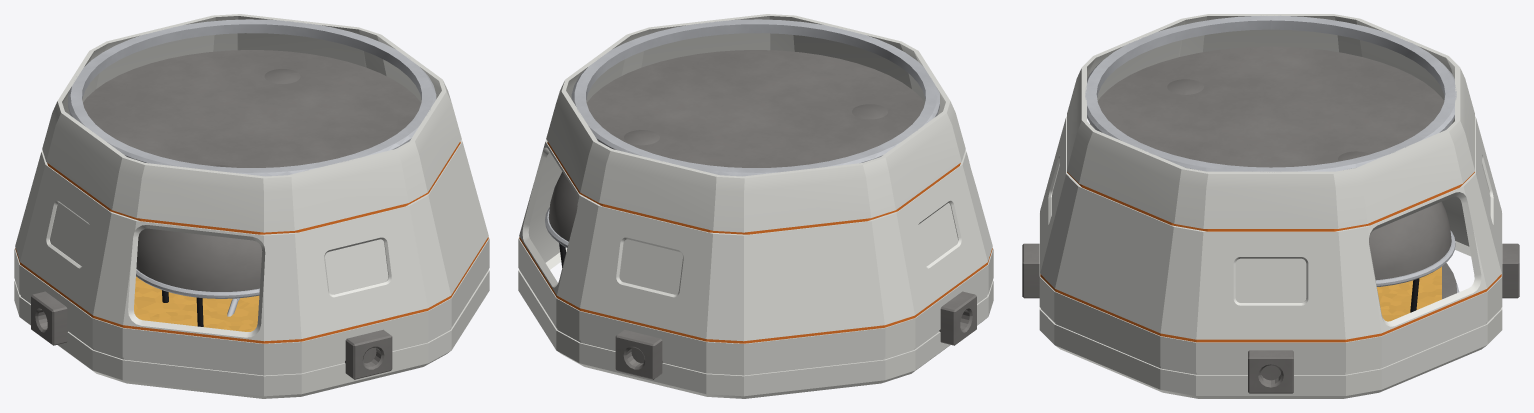
Rendered from ax_tank_16_lander_tank_section_m.glb.
3 renders of one model, left to right at view 1: azimuth 30°, elevation 25°; view 2: azimuth 150°, elevation 25°; view 3: azimuth 270°, elevation 25°, orthographic. The views are drawn at different scales.
Visible parts, largest first — view 1: shell, decks, interface_rings, spherical_tanks, mli_floor, leg_hardpoints, orange_stripes, tank_girth_rings; view 2: shell, decks, interface_rings, leg_hardpoints, orange_stripes, spherical_tanks; view 3: shell, decks, interface_rings, spherical_tanks, leg_hardpoints, orange_stripes, mli_floor, tank_girth_rings.
Part boxes in pixels (x1,y1,x2,y2): shell: (14,14,489,398); decks: (83,50,421,167); interface_rings: (68,19,436,176); spherical_tanks: (136,69,300,291); mli_floor: (134,276,259,331); leg_hardpoints: (31,291,392,379); orange_stripes: (15,141,488,343); tank_girth_rings: (136,269,259,298); shell: (518,14,993,398); decks: (586,50,924,167); interface_rings: (571,19,939,176); leg_hardpoints: (615,291,976,379); orange_stripes: (519,141,992,343); spherical_tanks: (548,104,887,241); shell: (1039,14,1502,398); decks: (1090,46,1456,299); interface_rings: (1085,15,1459,292); spherical_tanks: (1167,79,1451,280); leg_hardpoints: (1022,243,1519,393); orange_stripes: (1040,172,1501,342); mli_floor: (1377,266,1441,321); tank_girth_rings: (1375,230,1455,286).
Size of the model in its own units: 3.29 by 1.53 by 3.29.
Materials: 6 (3 with a texture image).
